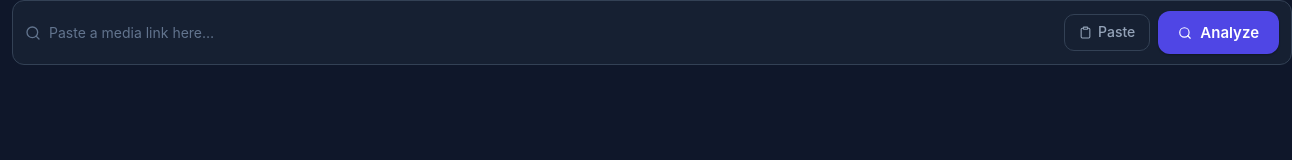
it: UrlInput — accessibility › removes aria-invalid once the error is cleared
The image size is (1292, 160).
Click the button "Analyze" at point(1219, 33), box [1158, 11, 1279, 54]
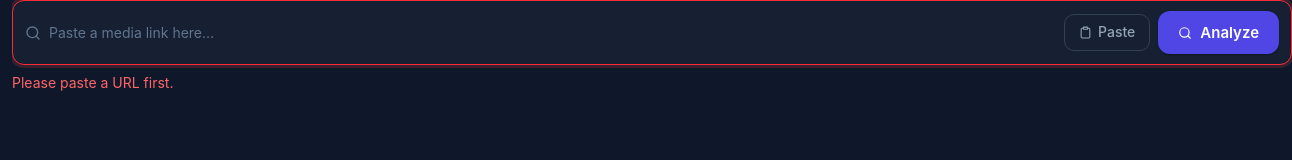
Expected: the message "Please paste a URL first." is shown, [12, 74, 173, 91]
Type "h" into the field named "media url" at point(553, 33), box [49, 23, 1056, 43]
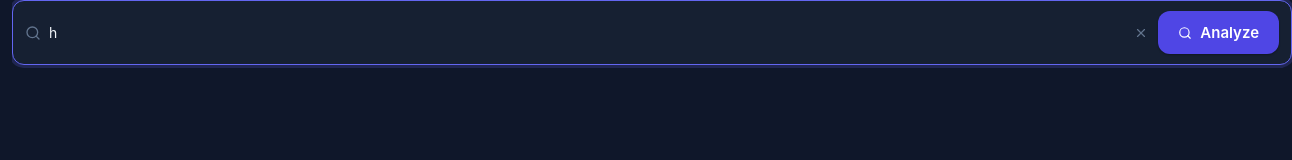
Expected: the field named "media url" does not have attribute aria-invalid="true", [49, 23, 1124, 43]
